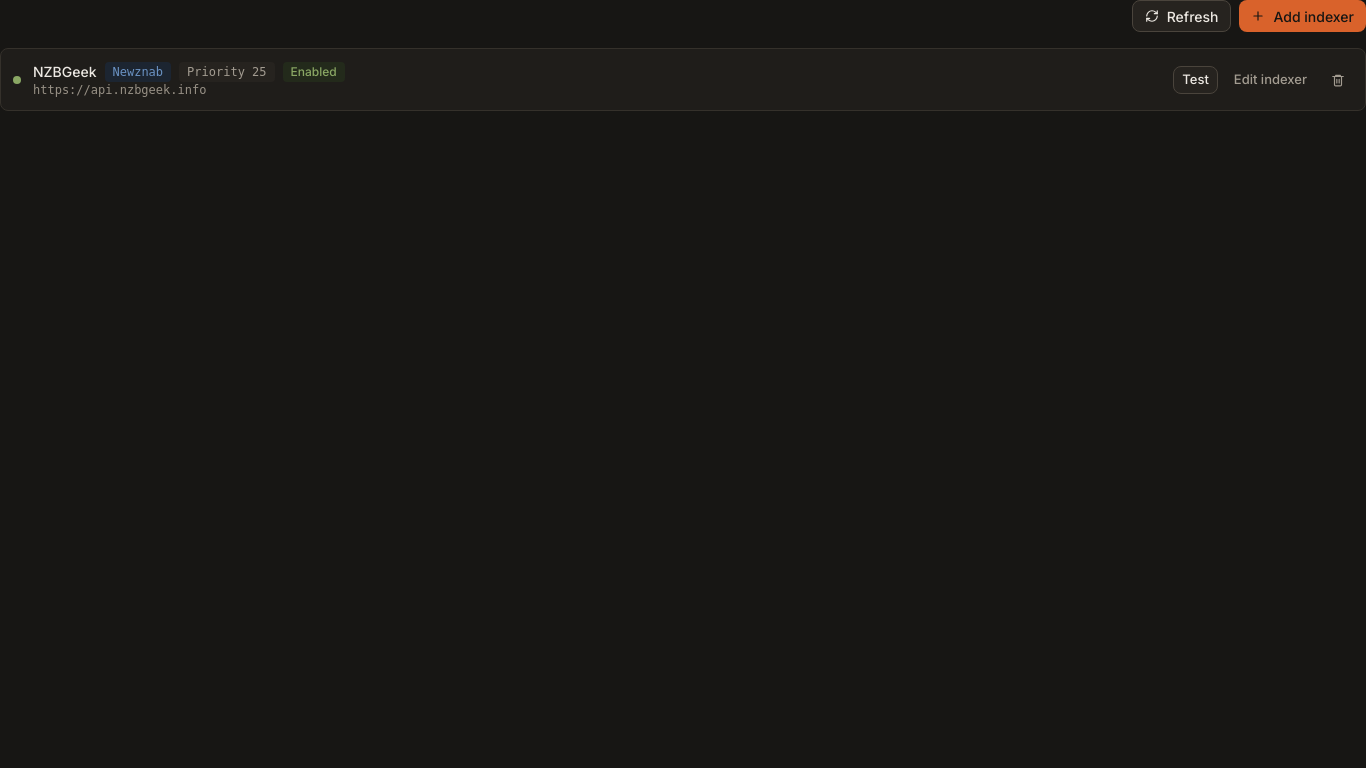
IndexerSettings category picker › loads the caps tree when the edit form opens
Click the button "Edit indexer" at (1270, 80), box [1226,66,1315,94]
(page scrolled)
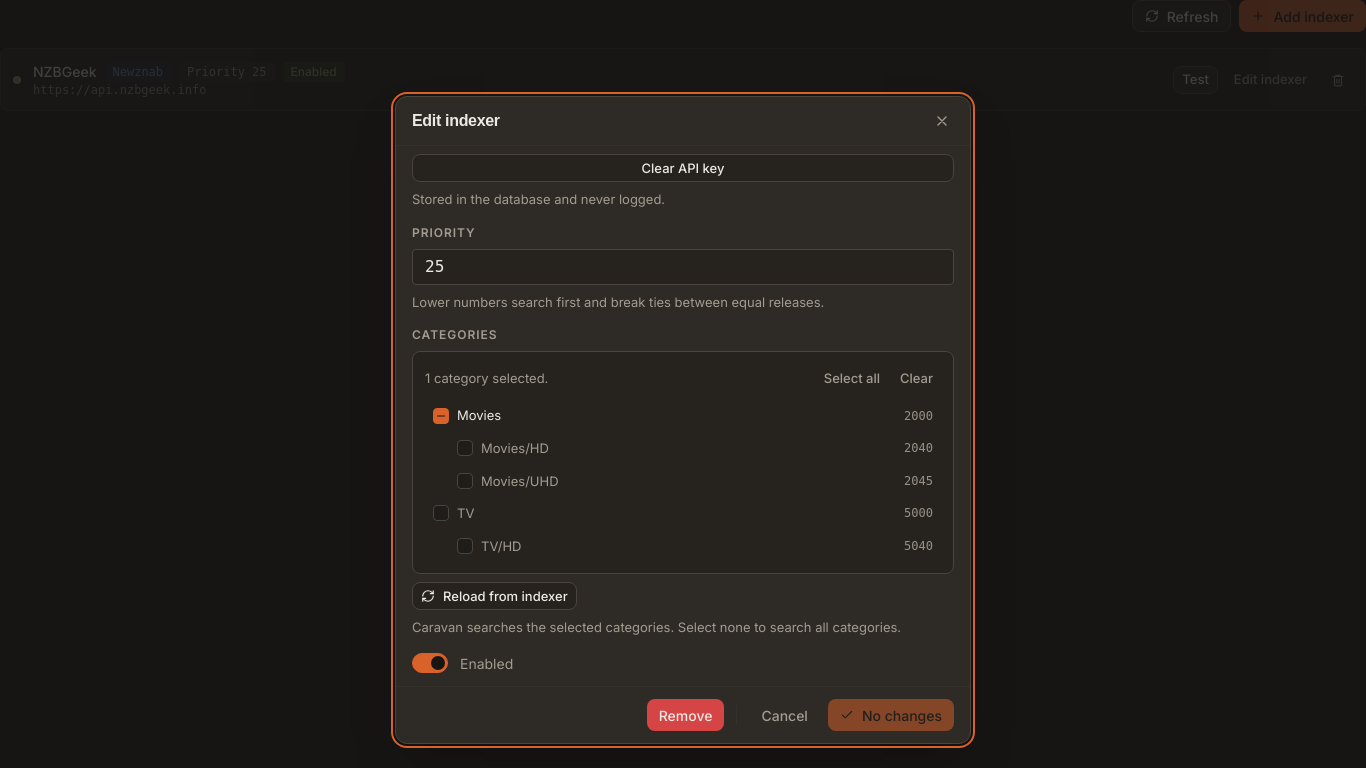
Check: the text "Movies/HD" is shown, box [481,440,549,456]
Check: the text "TV/HD" is shown, box [481,538,522,554]
